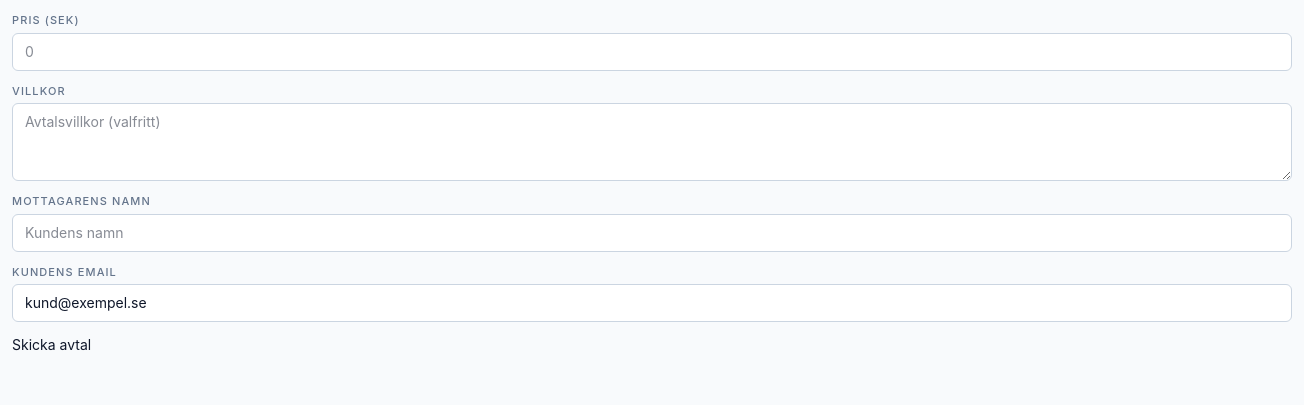
it: SendContractForm › error message shown on failure
Step 1. Type "5000" into the number field with placeholder "0" → (652, 52), box [12,32,1292,70]
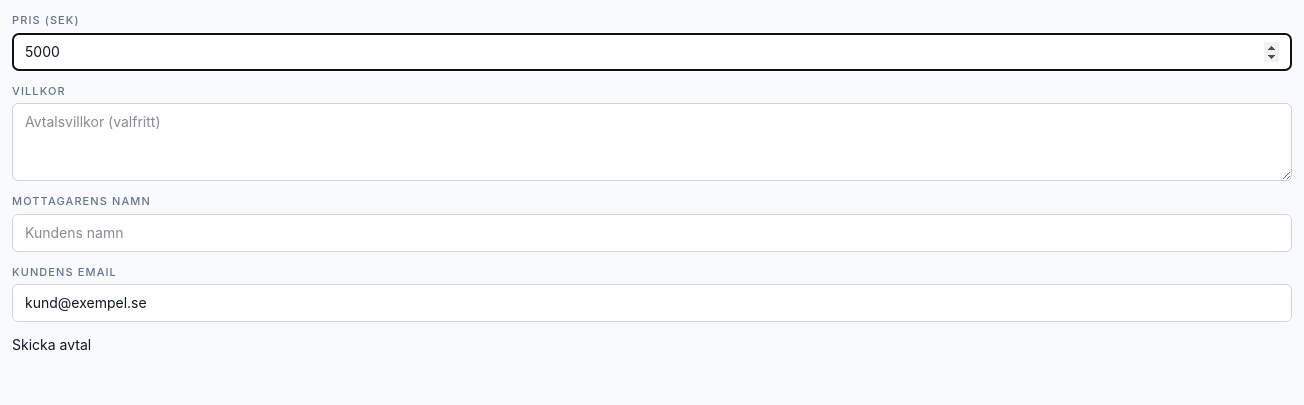
Step 2. Click the button "Skicka avtal" → (52, 344), box [12,334,91,355]
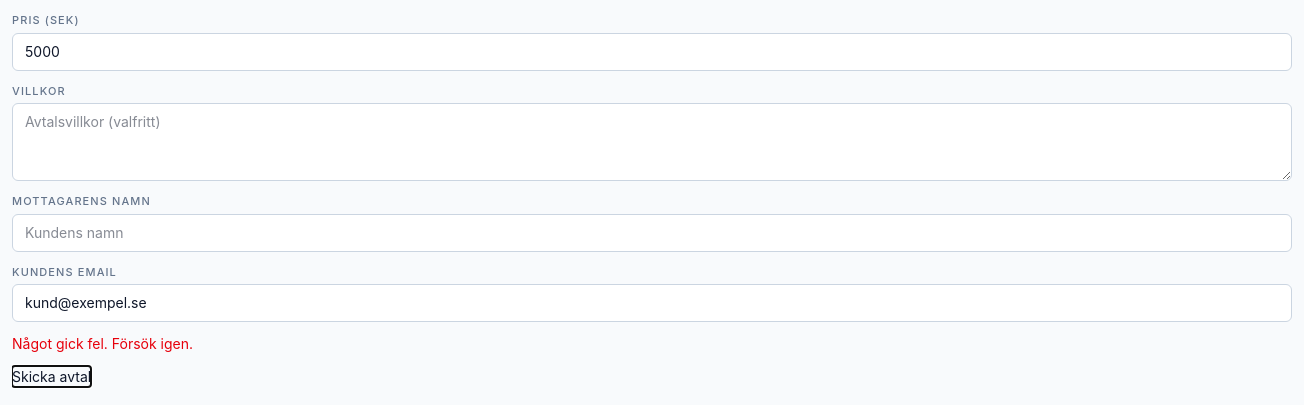
Result: the text "Något gick fel. Försök igen." is shown at [12,335,193,352]
